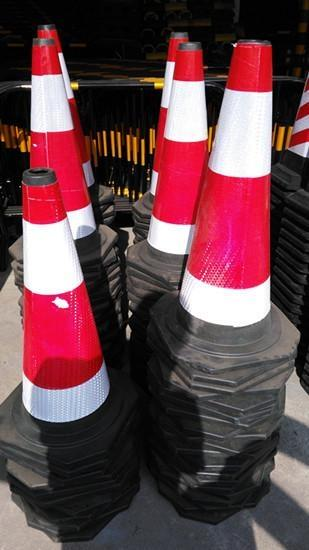cone_barrel: (172, 38, 280, 353), (12, 154, 116, 445), (24, 27, 99, 256), (139, 47, 213, 266)
